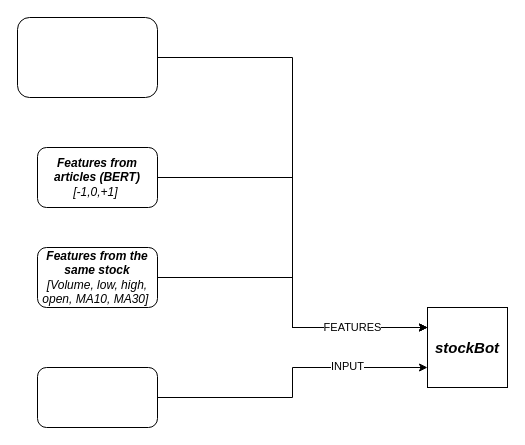
Some shapes in this 525 by 445 pixel diagram are drawn without their labels. Here are the shapes that lost their labels. From the top down, the centre of each, then its label:
the point at 87,57: Features from other stocks (SP500, CL1!, SP500Techno)[Close]
the point at 97,397: 'Close' prices from the stock
